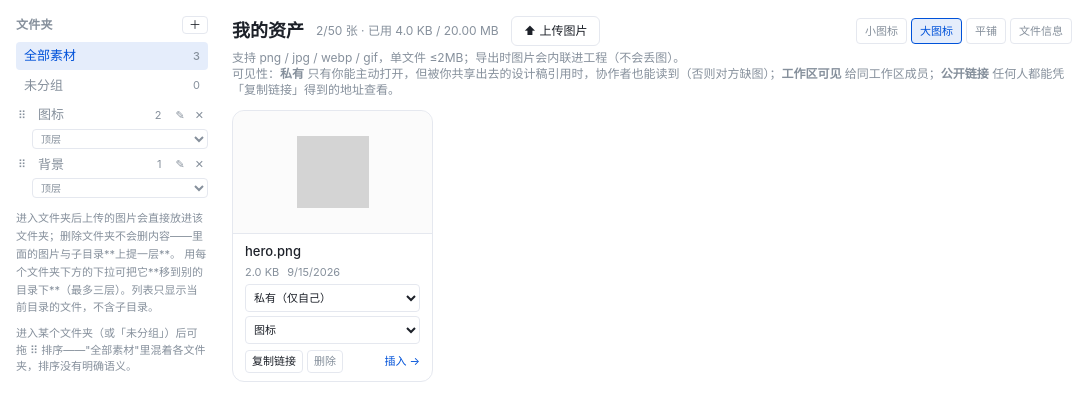
AssetsPage（T44 文件夹） › 进文件夹后：条数标成「本范围」，「已用」仍是账号口径
Click the button with test id "folder-1" at [100, 115], box x1=30 y1=101 x2=170 y2=128
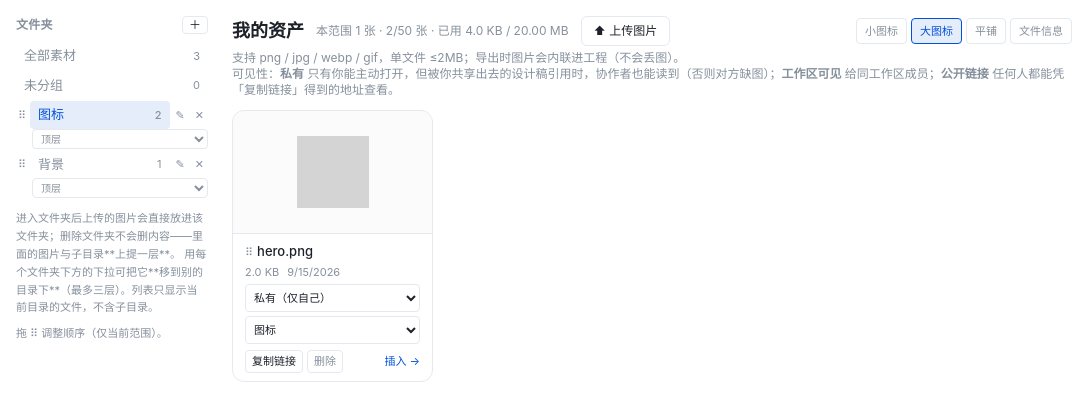
Expected: the text with test id "assets-usage" shows "2/50 张", x1=316 y1=23 x2=569 y2=39
Expected: the text with test id "assets-usage" shows "本范围 1 张", x1=316 y1=23 x2=386 y2=38
